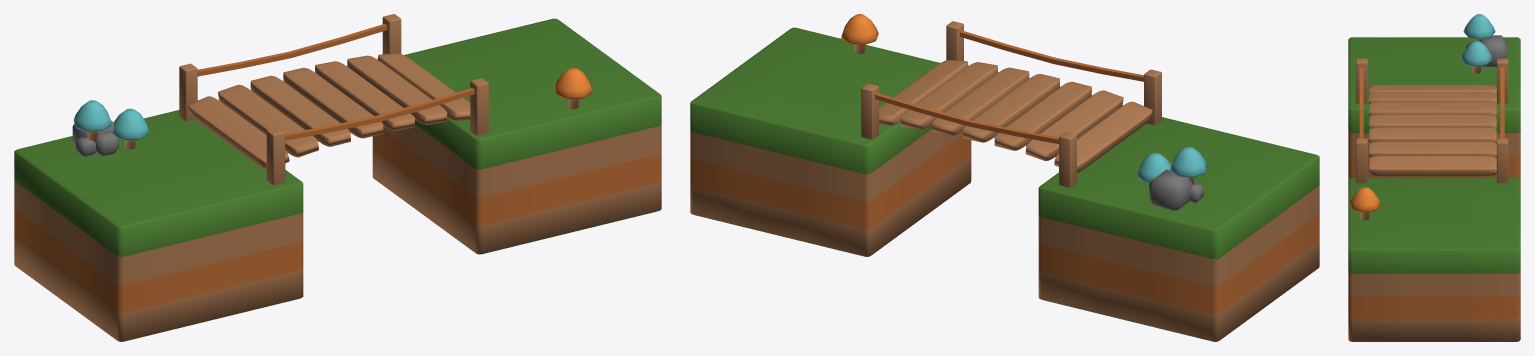
File: Obstaculo_puente.fbx
3 views of the same model, side by side, from view 1: azimuth 30°, elevation 25°; view 2: azimuth 150°, elevation 25°; view 3: azimuth 270°, elevation 25° (orthographic). The views are drawn at different scales.
Visible parts, largest first — view 1: Small_Grass_Platform5; view 2: Small_Grass_Platform5; view 3: Small_Grass_Platform5.
Boxes of the visible parts, x1,y1,x2,y2 form: Small_Grass_Platform5: (14, 14, 661, 341); Small_Grass_Platform5: (690, 14, 1319, 341); Small_Grass_Platform5: (1348, 14, 1520, 341).
Bounding box in the file's own units: 586 × 173 × 200.
